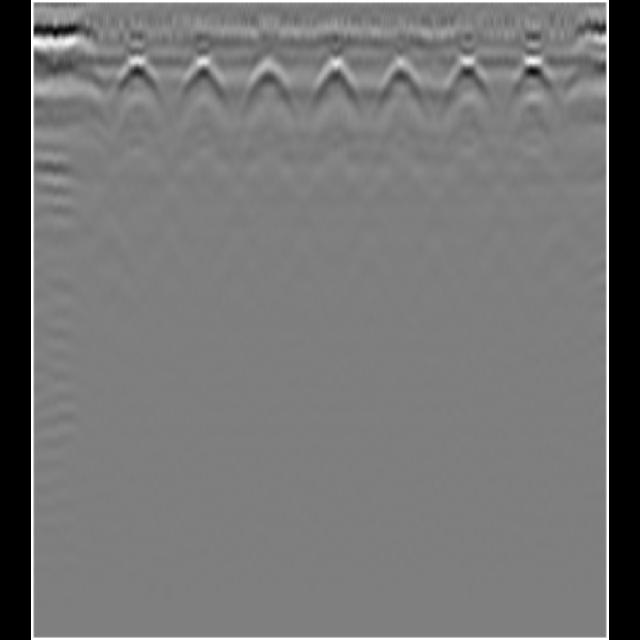hyperbola: (307, 52, 363, 102), (238, 54, 294, 102), (108, 52, 164, 98), (508, 54, 560, 102), (438, 53, 492, 99), (177, 52, 230, 98), (376, 54, 426, 98)
